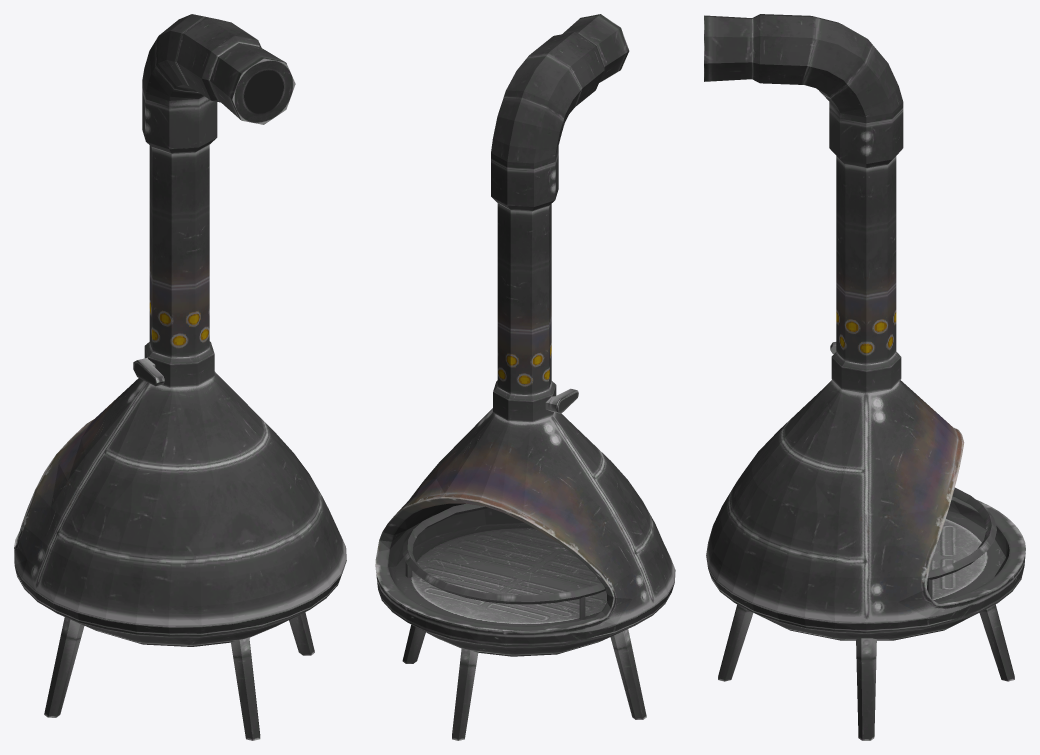
Rendered from P_Appliance_00145.obj.
The picture shows the model from 3 angles, left to right: view 1: azimuth 30°, elevation 25°; view 2: azimuth 150°, elevation 25°; view 3: azimuth 270°, elevation 25°; orthographic projection. The views are drawn at different scales.
Bounding box in the file's own units: 0.9871 × 2.25 × 0.9909.
Materials: 1 (1 with a texture image).
